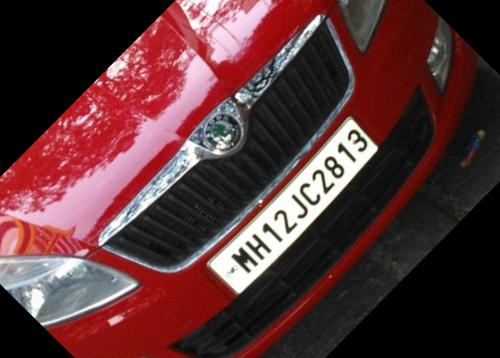plate: (194, 100, 396, 303)
